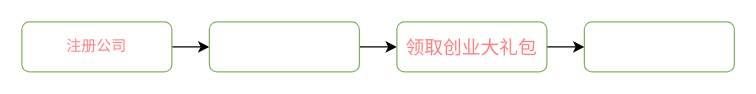
Some shapes in this 756 by 94 pixel diagram are drawn without their labels. The shapes that lost their labels are listed below. From the top down, each one's box as (x1, y1, x2, y2) in pixels, then its label:
(208, 21, 359, 72): 加入孵化器
(583, 21, 734, 72): 秒批贷款
